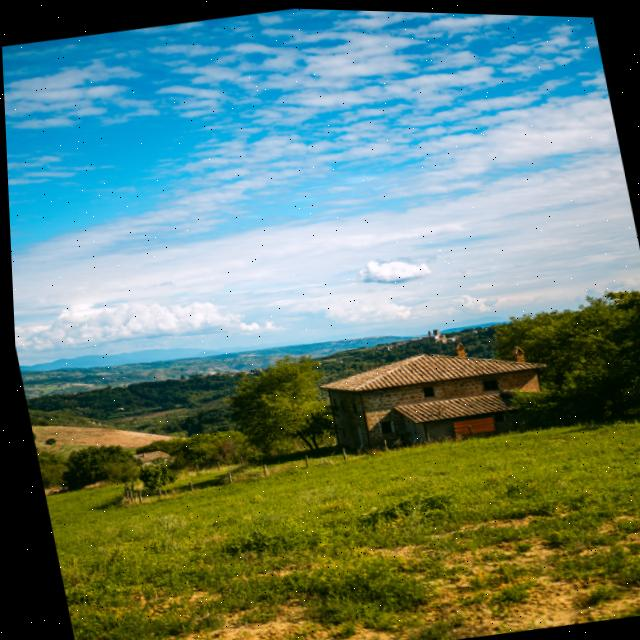building: (321, 330, 559, 460)
